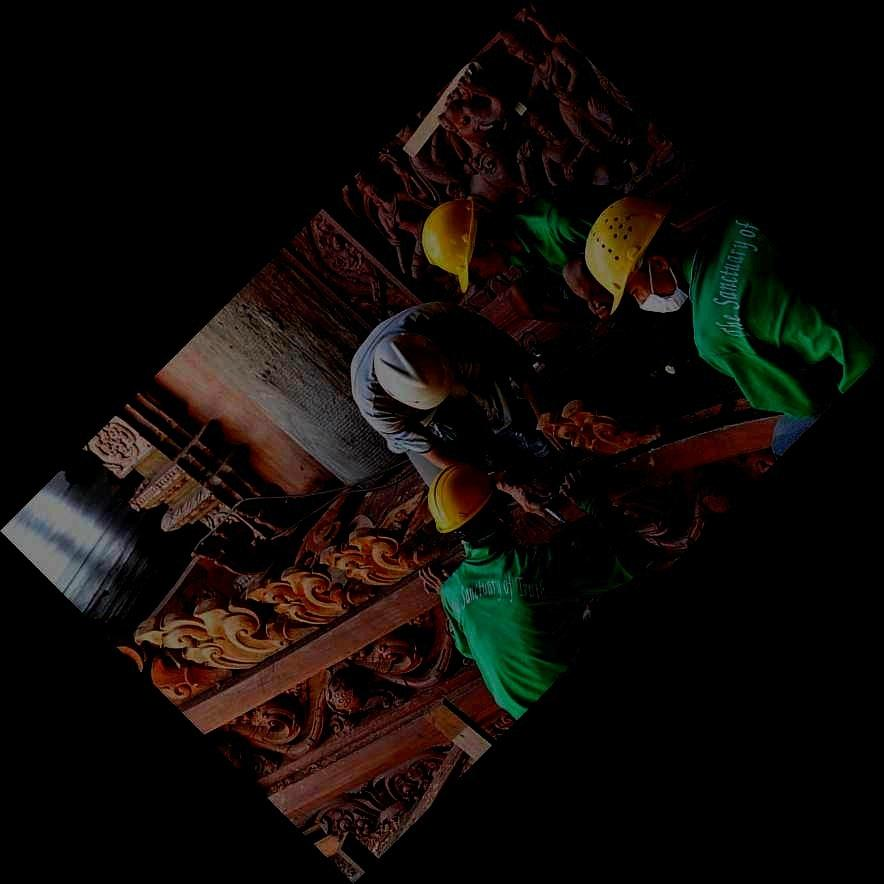helmet: (584, 196, 696, 315), (421, 197, 511, 293), (427, 464, 512, 547), (372, 332, 451, 410)
